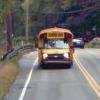Bus: (32, 24, 77, 67)
